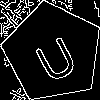U: (28, 27, 81, 85)
